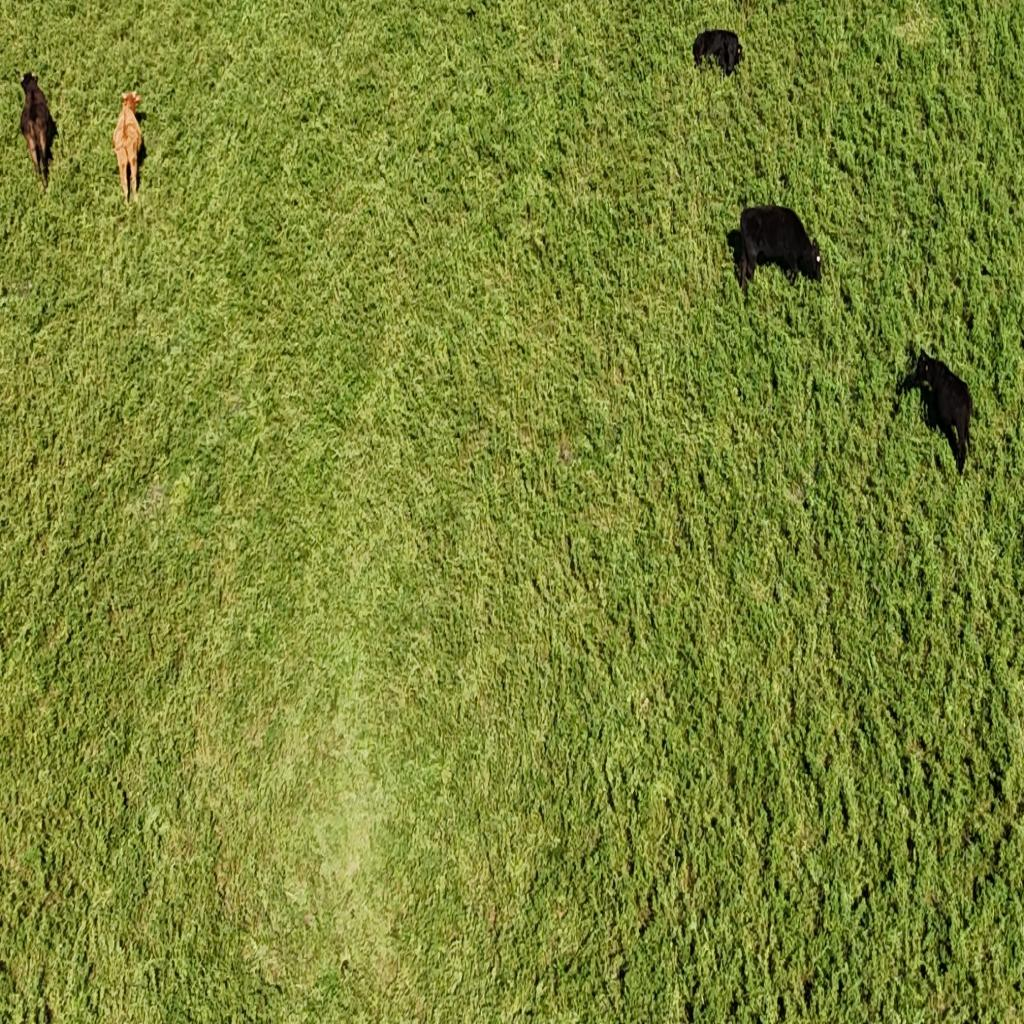cow: (732, 198, 827, 298), (903, 347, 973, 477), (17, 70, 55, 189), (112, 90, 146, 208), (690, 26, 742, 78)
